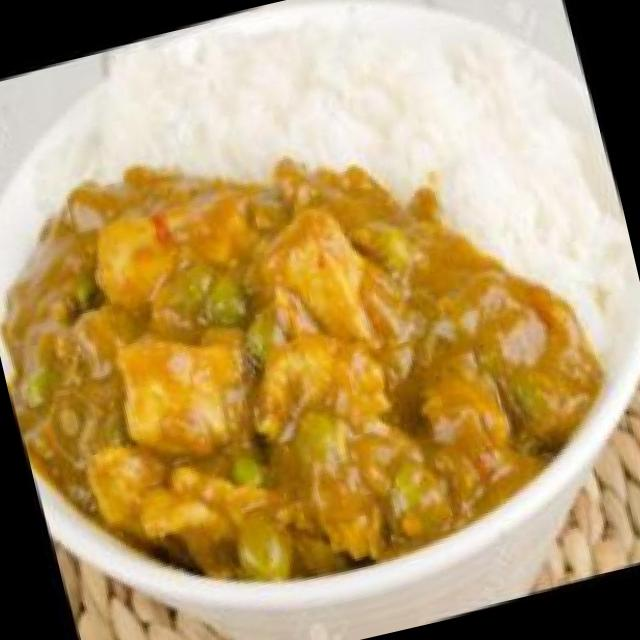curry: (0, 55, 637, 640)
rice: (118, 0, 530, 228)
